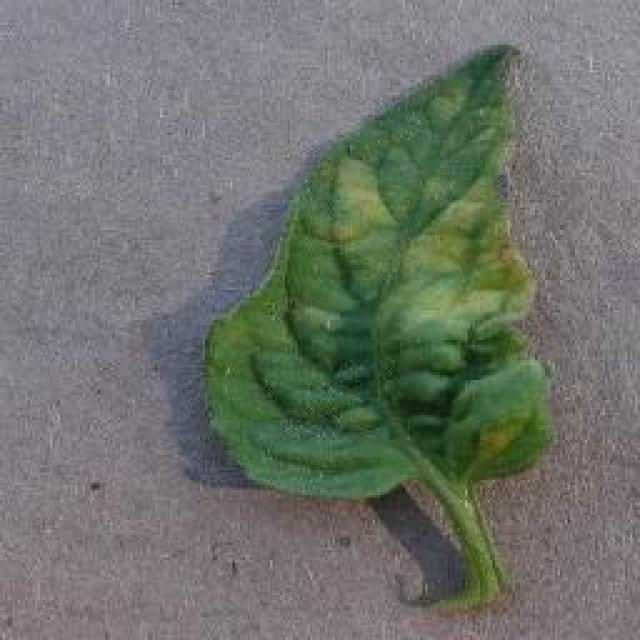Tom_Leaf_Mold: (292, 140, 548, 340)
